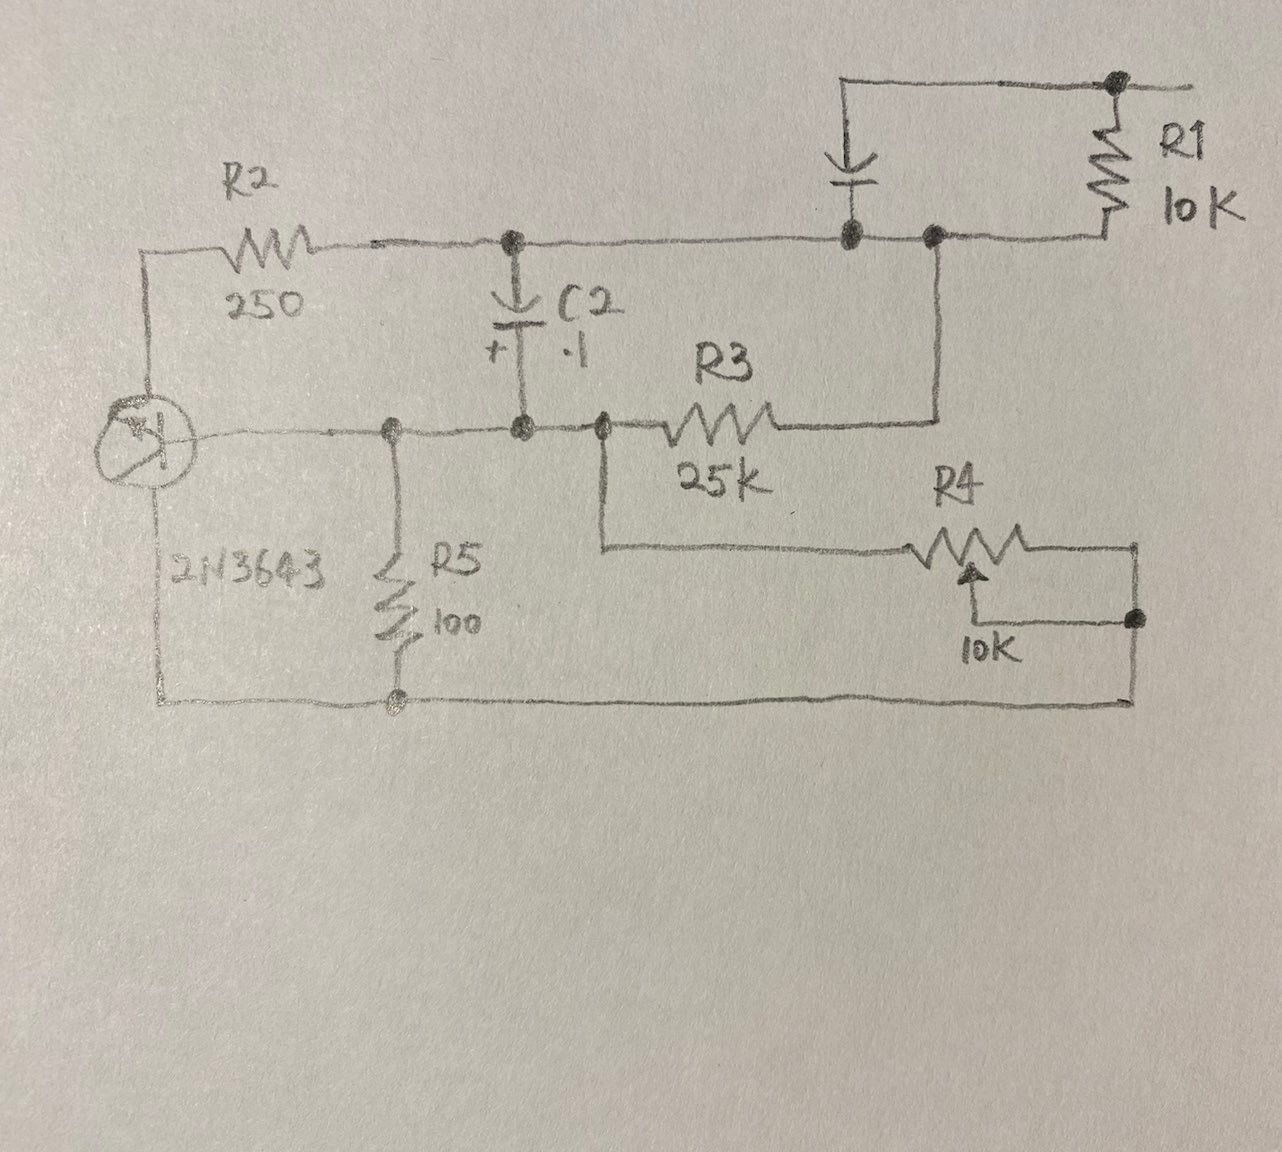capacitor.polarized: (481, 289, 548, 366)
capacitor.unpolarized: (818, 145, 884, 190)
junction: (484, 209, 551, 266), (821, 209, 879, 262), (364, 404, 417, 461), (908, 209, 960, 257), (496, 398, 541, 451), (578, 400, 626, 450), (1096, 57, 1144, 106), (376, 681, 430, 723), (1111, 594, 1159, 642), (585, 524, 629, 570), (910, 397, 955, 440), (143, 676, 183, 725), (821, 59, 866, 101), (122, 230, 165, 275), (1114, 527, 1160, 568), (1110, 677, 1146, 723), (1085, 222, 1135, 254), (963, 605, 990, 630)
resistor: (652, 398, 788, 449), (368, 545, 424, 658), (212, 218, 321, 276), (1086, 120, 1135, 215)
resistor.adjustable: (898, 518, 1041, 589)
terminal: (1166, 63, 1225, 101)
text: (169, 540, 327, 598), (672, 455, 779, 504), (1159, 182, 1253, 237), (212, 145, 285, 206), (216, 281, 309, 327), (690, 332, 755, 391), (927, 455, 985, 513), (423, 536, 490, 582), (557, 280, 628, 324), (1157, 117, 1214, 165), (952, 630, 1027, 665), (428, 603, 491, 640), (559, 330, 595, 378)
transistor: (85, 377, 218, 503)
